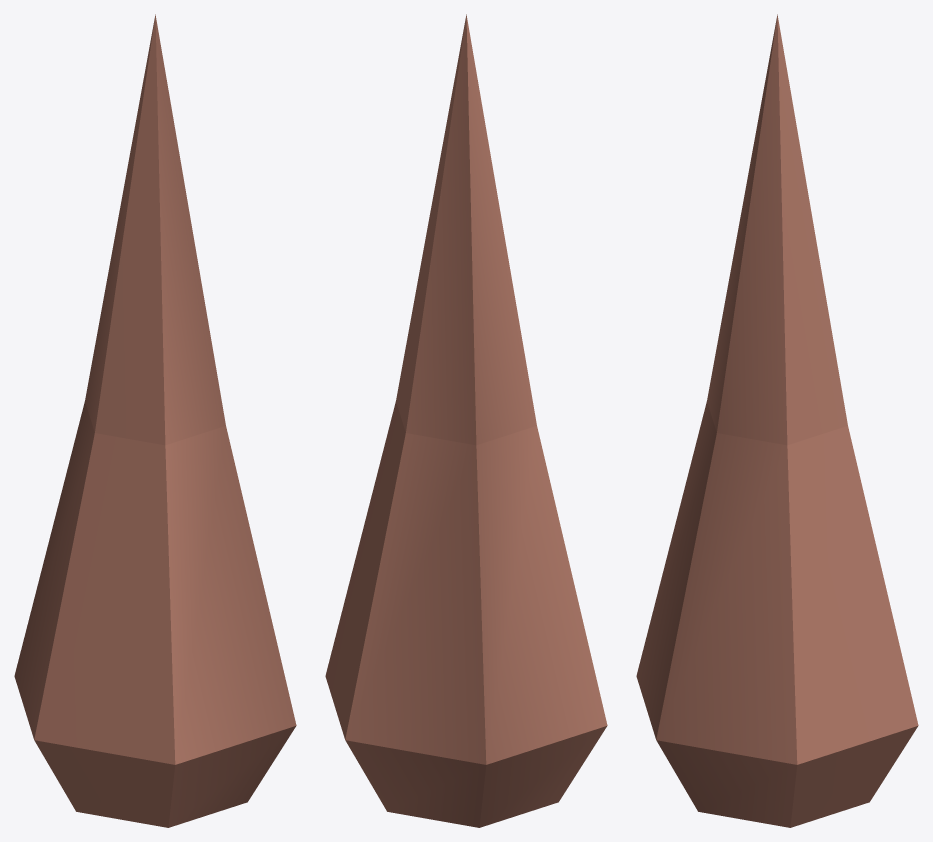
The model's file is 2083_PrimordialShower_Pyro_Counter_Projectile.fbx.
The picture shows the model from 3 angles, left to right: view 1: azimuth 30°, elevation 25°; view 2: azimuth 150°, elevation 25°; view 3: azimuth 270°, elevation 25°; orthographic projection.
Visible parts, largest first — view 1: PART_ReflectedElementFragment; view 2: PART_ReflectedElementFragment; view 3: PART_ReflectedElementFragment.
Part boxes in pixels (left/top/right/bottom): PART_ReflectedElementFragment: left=14, top=14, right=296, bottom=827; PART_ReflectedElementFragment: left=325, top=14, right=607, bottom=827; PART_ReflectedElementFragment: left=636, top=14, right=918, bottom=827.
Size of the model in its own units: 51.56 by 145 by 48.02.
